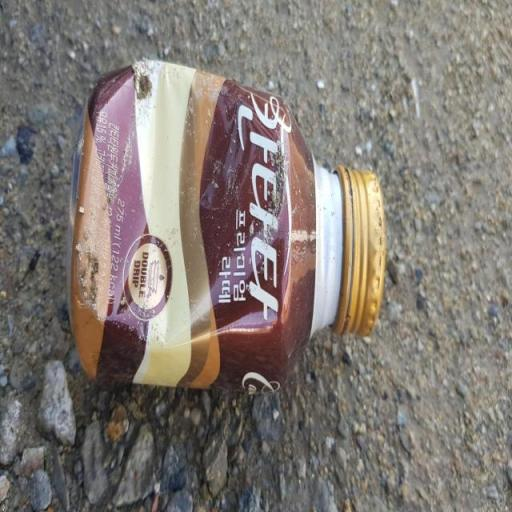metal: (46, 18, 416, 462)
